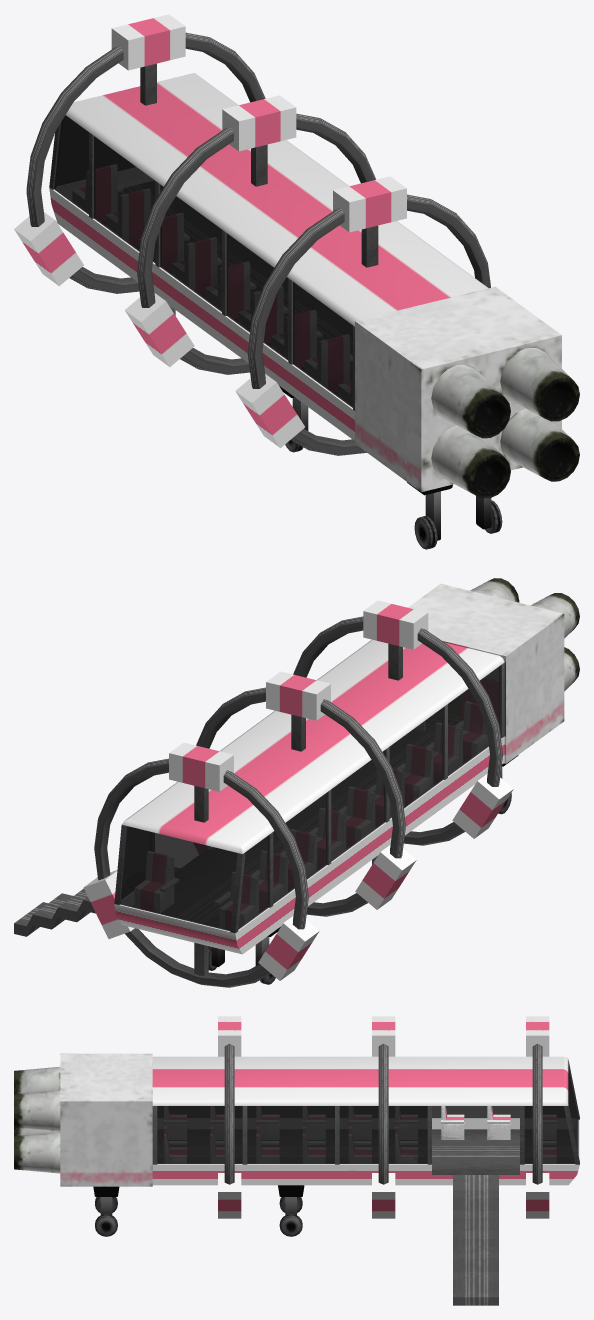
The model's file is Bus_A.fbx.
3 renders of one model, top to bottom at view 1: azimuth 30°, elevation 25°; view 2: azimuth 150°, elevation 25°; view 3: azimuth 270°, elevation 25°, orthographic. The views are drawn at different scales.
Visible parts, largest first — view 1: Bus_inner, Torus, Cylinder, Chairs_Low, Cube, Chairs_High; view 2: Bus_inner, Torus, Chairs_Low, Cylinder, Stairs, Chairs_High, Cube; view 3: Bus_inner, Torus, Stairs, Cylinder, Chairs_Low, Cube, Chairs_High.
Part boxes in pixels (box(x1,y1,x2,y2)): Bus_inner: box(49, 73, 561, 492); Torus: box(14, 14, 490, 455); Cylinder: box(431, 348, 579, 498); Chairs_Low: box(73, 166, 352, 405); Cube: box(169, 305, 502, 549); Chairs_High: box(87, 173, 350, 396); Bus_inner: box(114, 583, 564, 954); Torus: box(83, 600, 513, 987); Chairs_Low: box(135, 702, 483, 926); Cylinder: box(470, 578, 579, 691); Stairs: box(14, 868, 178, 936); Chairs_High: box(136, 717, 487, 911); Cube: box(208, 755, 518, 984); Bus_inner: box(60, 1053, 579, 1186); Torus: box(218, 1016, 549, 1218); Stairs: box(453, 1175, 498, 1305); Cylinder: box(14, 1066, 60, 1173); Chairs_Low: box(164, 1106, 555, 1162); Cube: box(93, 1185, 304, 1236); Chairs_High: box(165, 1106, 509, 1162).
Bounding box in the file's own units: 1280 × 950 × 2450.
